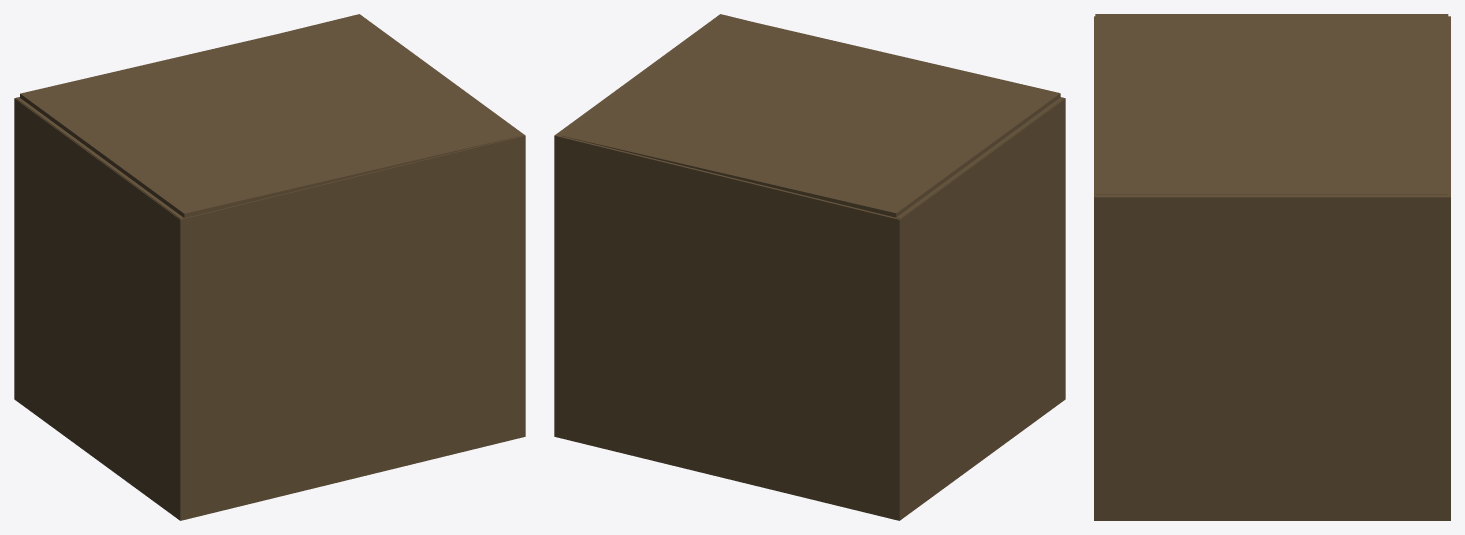
File: Package.fbx
3 renders of one model, left to right at view 1: azimuth 30°, elevation 25°; view 2: azimuth 150°, elevation 25°; view 3: azimuth 270°, elevation 25°, orthographic. The views are drawn at different scales.
Visible parts, largest first — view 1: Package, Cube.001, Cube.002; view 2: Package, Cube.001, Cube.002; view 3: Package, Cube.001.
Boxes of the visible parts, x1=… form: Package: x1=14, y1=14, x2=525, y2=520; Cube.001: x1=20, y1=16, x2=519, y2=218; Cube.002: x1=16, y1=97, x2=183, y2=218; Package: x1=554, y1=14, x2=1065, y2=520; Cube.001: x1=561, y1=15, x2=1060, y2=217; Cube.002: x1=893, y1=97, x2=1063, y2=218; Package: x1=1094, y1=16, x2=1450, y2=520; Cube.001: x1=1095, y1=14, x2=1448, y2=194.
Bounding box in the file's own units: 120 × 101 × 100.
